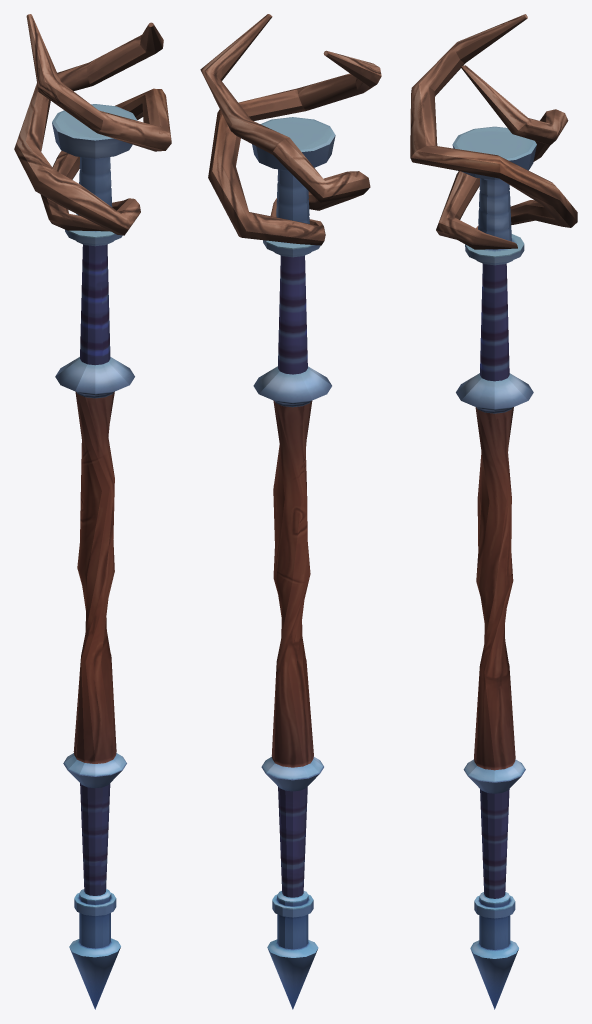
File: scepter group 0905.fbx
3 views of the same model, side by side, from view 1: azimuth 30°, elevation 25°; view 2: azimuth 150°, elevation 25°; view 3: azimuth 270°, elevation 25° (orthographic). The views are drawn at different scales.
Parts seen in each view (by area): view 1: magic_scepter_UC1_pCylinder18; view 2: magic_scepter_UC1_pCylinder18; view 3: magic_scepter_UC1_pCylinder18.
Part boxes in pixels (bbox=[...]): magic_scepter_UC1_pCylinder18: bbox=[14, 14, 171, 1009]; magic_scepter_UC1_pCylinder18: bbox=[200, 14, 381, 1009]; magic_scepter_UC1_pCylinder18: bbox=[410, 14, 577, 1009].
Size of what is drawn, in the model's own units: 27.72 by 171 by 26.76.
